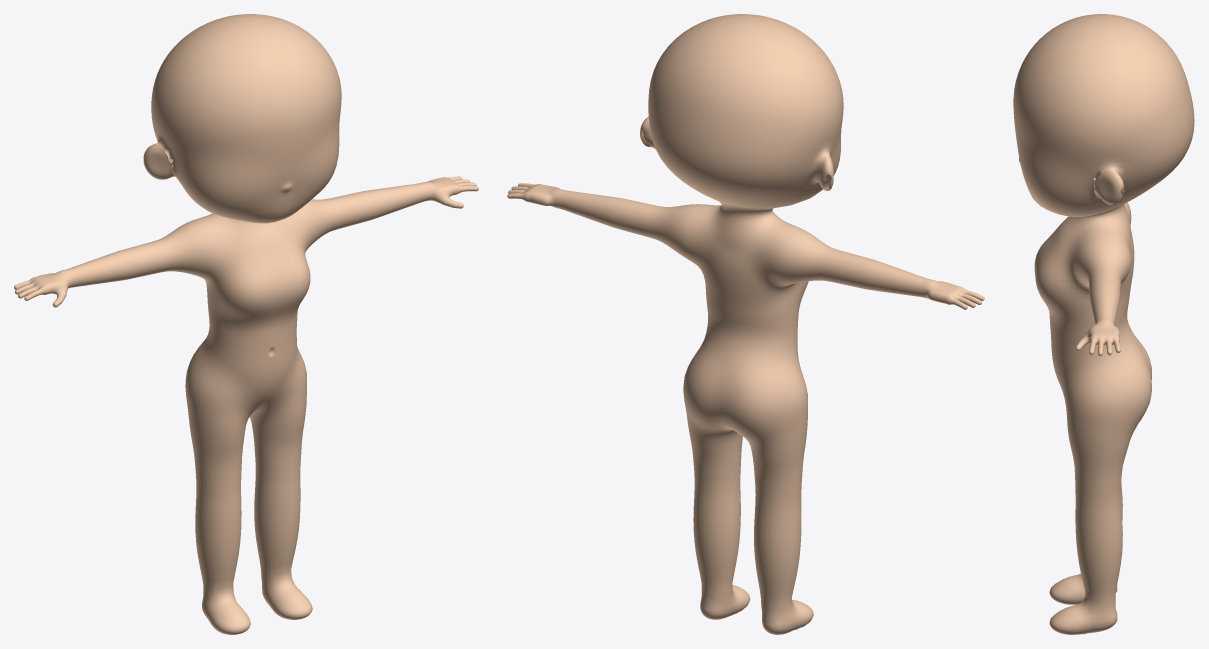
The model's file is female_medium_mesh_only.fbx.
3 views of the same model, side by side, from view 1: azimuth 30°, elevation 25°; view 2: azimuth 150°, elevation 25°; view 3: azimuth 270°, elevation 25° (orthographic). The views are drawn at different scales.
Parts seen in each view (by area): view 1: Body; view 2: Body; view 3: Body.
Boxes of the visible parts, <box> form: Body: <box>14,14,478,634</box>; Body: <box>507,14,984,634</box>; Body: <box>1013,14,1194,634</box>.
Bounding box in the file's own units: 127 × 156 × 43.35.
